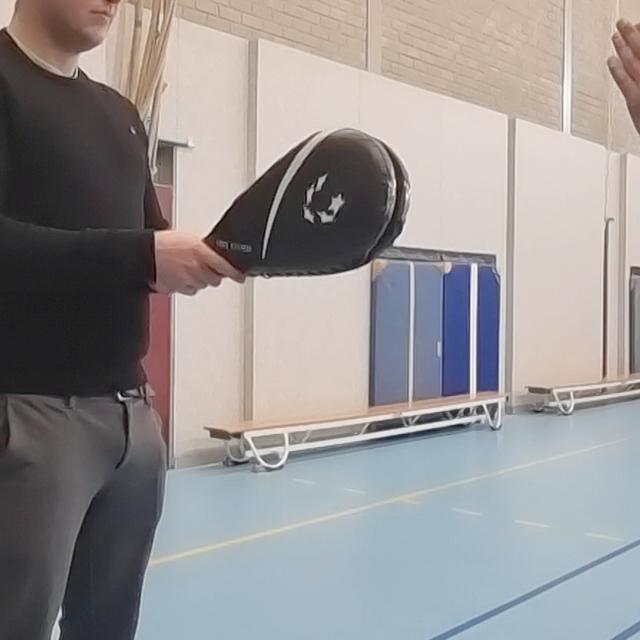paddle: (479, 235, 571, 290)
